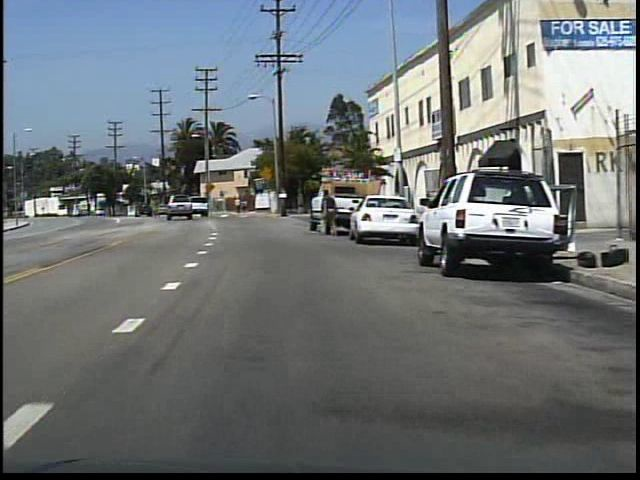person: (317, 185, 339, 240), (233, 196, 242, 217), (240, 198, 249, 215)
